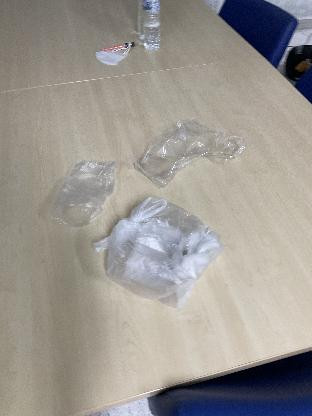Plastic Bag: (95, 200, 225, 310), (125, 115, 244, 187), (50, 154, 115, 240)
